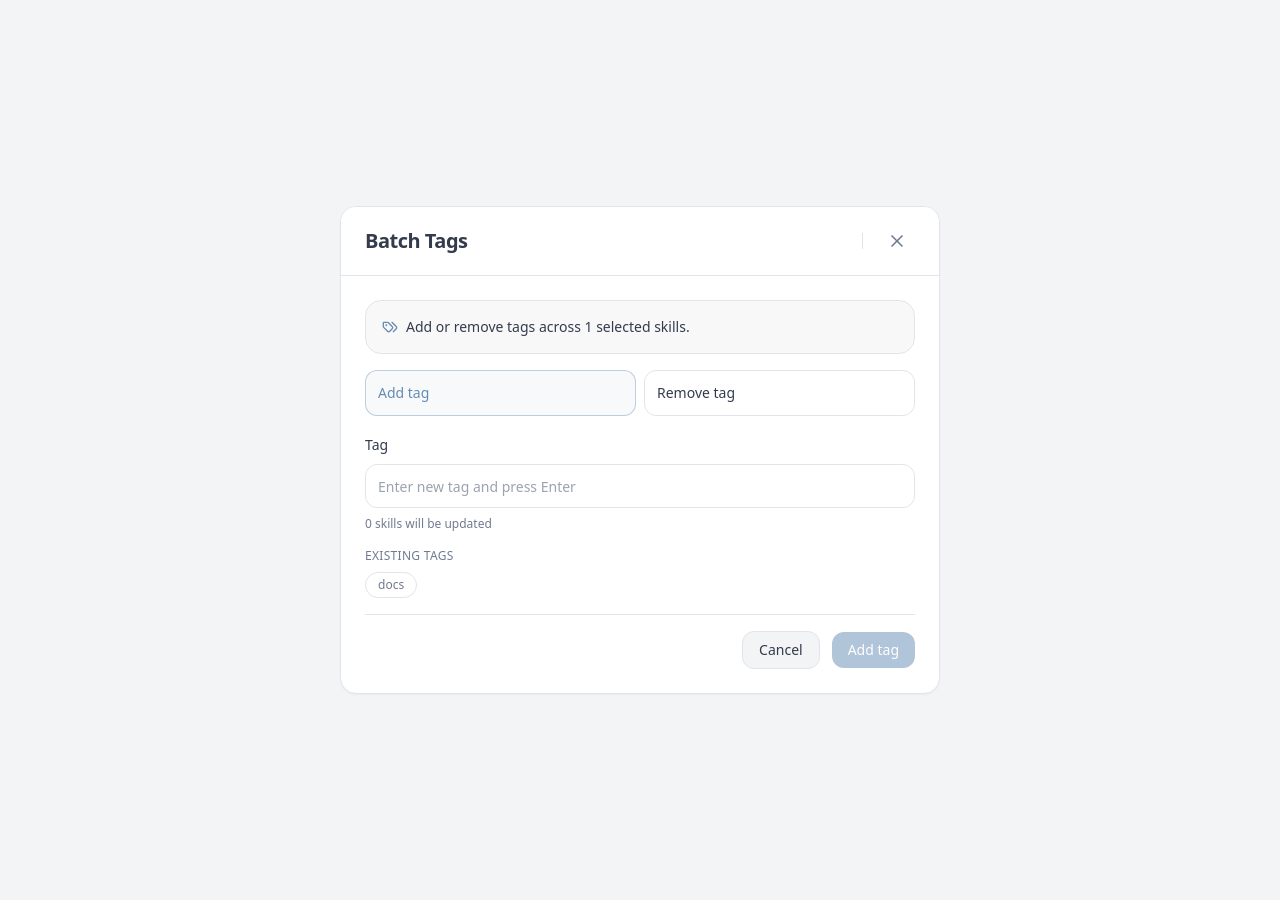
Test case: SkillBatchTagDialog › clicking an existing-tag chip prefills the input
Click the button "docs" at (391, 585), box x1=365 y1=572 x2=417 y2=598
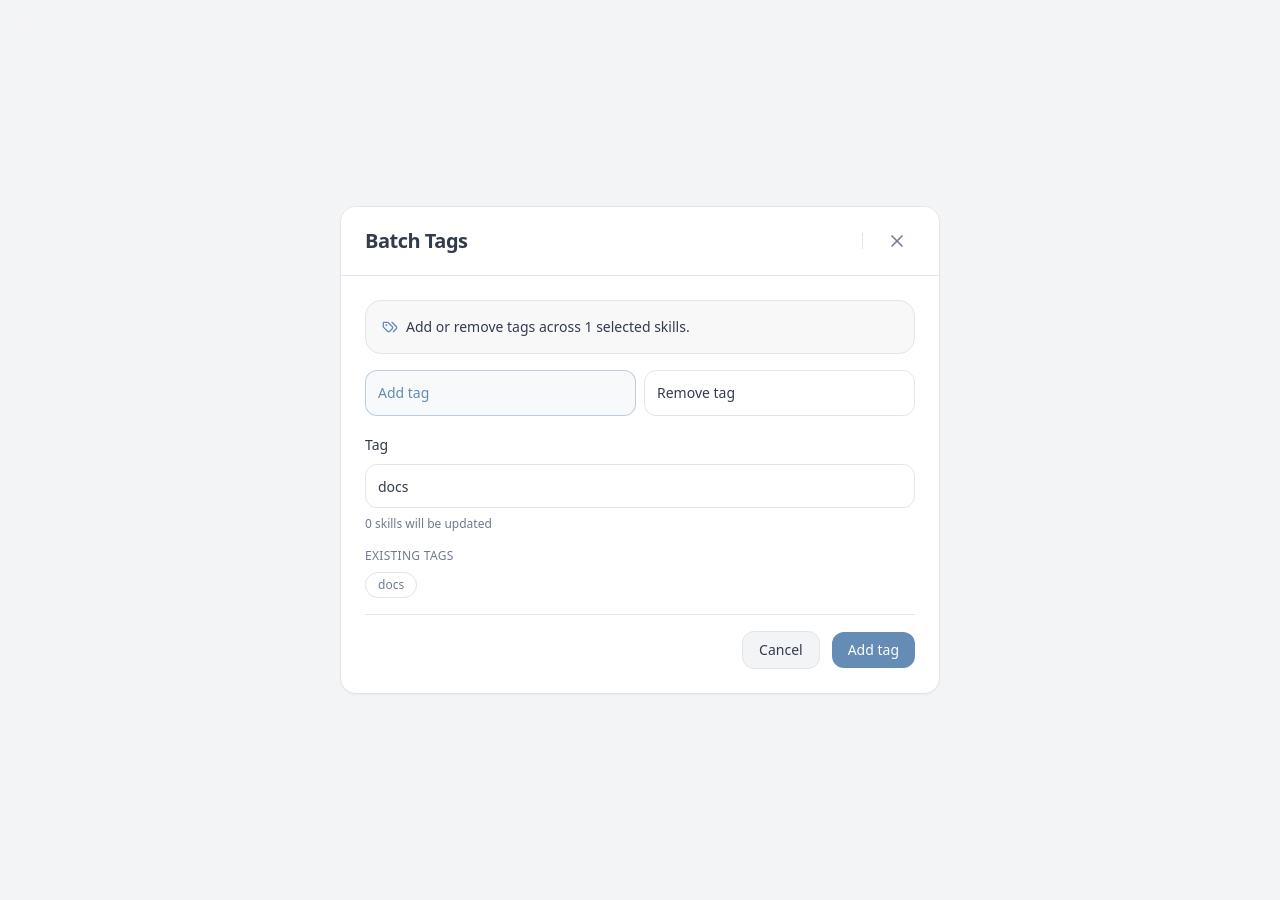
Now the field holds "docs", box x1=365 y1=464 x2=915 y2=508
